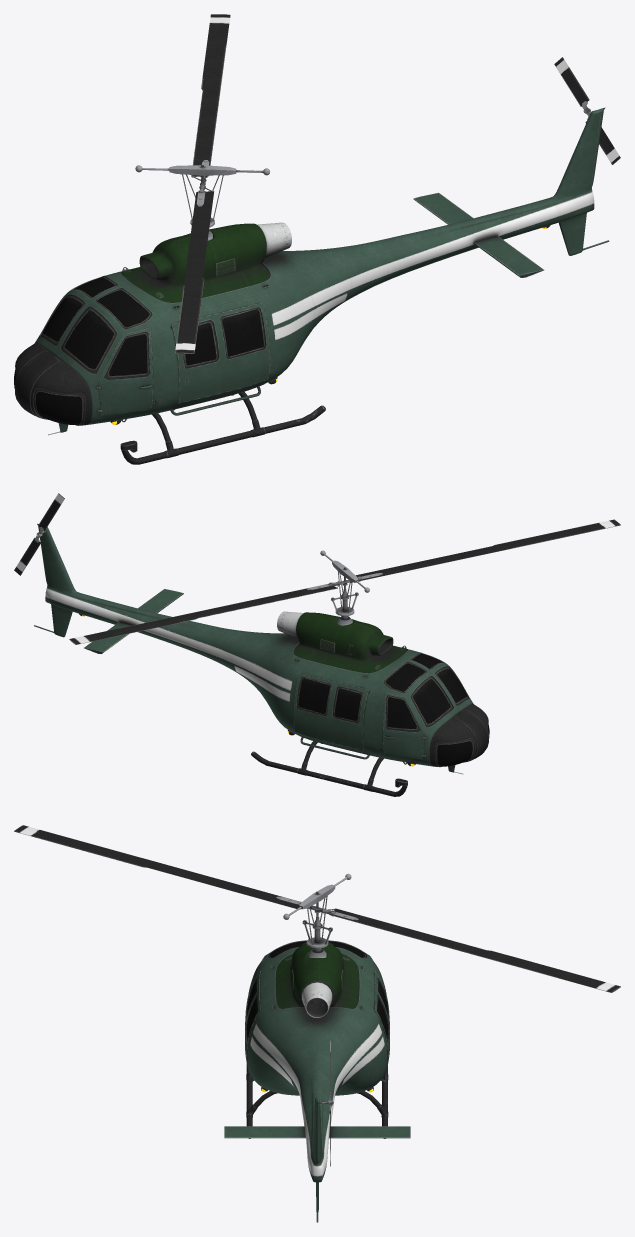
File: helicopter1.glb
3 views of the same model, one above another, from view 1: azimuth 30°, elevation 25°; view 2: azimuth 150°, elevation 25°; view 3: azimuth 270°, elevation 25° (orthographic). The views are drawn at different scales.
Parts seen in each view (by area): view 1: Object_4, Object_3, Object_2; view 2: Object_4, Object_3, Object_2; view 3: Object_4, Object_3, Object_2.
Boxes of the visible parts, bbox=[...] form: Object_4: bbox=[14, 57, 620, 464]; Object_3: bbox=[14, 14, 270, 425]; Object_2: bbox=[33, 30, 235, 425]; Object_4: bbox=[14, 493, 489, 796]; Object_3: bbox=[69, 519, 620, 766]; Object_2: bbox=[76, 525, 620, 767]; Object_4: bbox=[224, 873, 620, 1222]; Object_3: bbox=[14, 825, 620, 1042]; Object_2: bbox=[14, 831, 610, 1074].
Bounding box in the file's own units: 1224 × 491 × 1175.
1 material, 1 textured.
